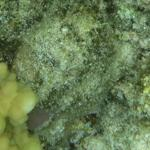dead: (1, 1, 145, 145)
